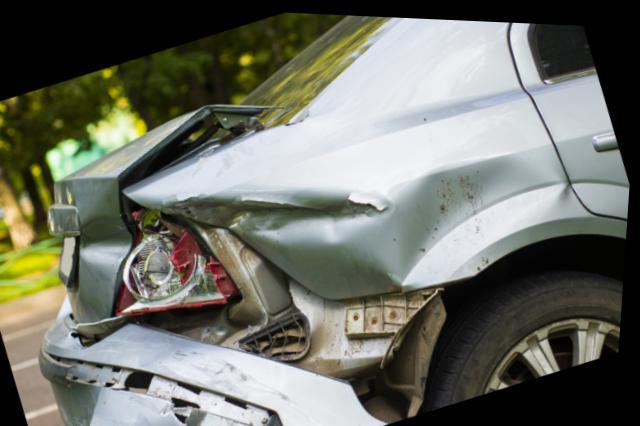dent: (165, 148, 564, 297), (83, 193, 136, 263)
dislocated part: (47, 227, 477, 426)
lamp broken: (113, 202, 241, 314)
scratch: (158, 345, 306, 402)
